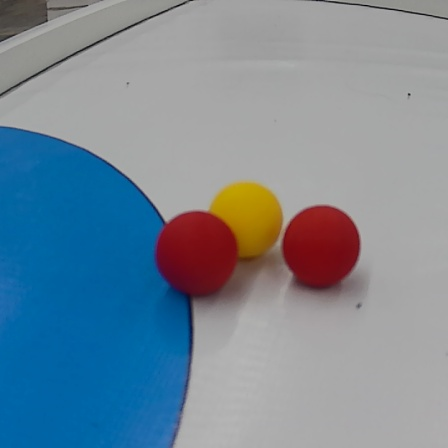blue_base: (1, 121, 197, 448)
red: (150, 210, 241, 299), (287, 203, 360, 288)
yellow: (211, 181, 283, 255)
